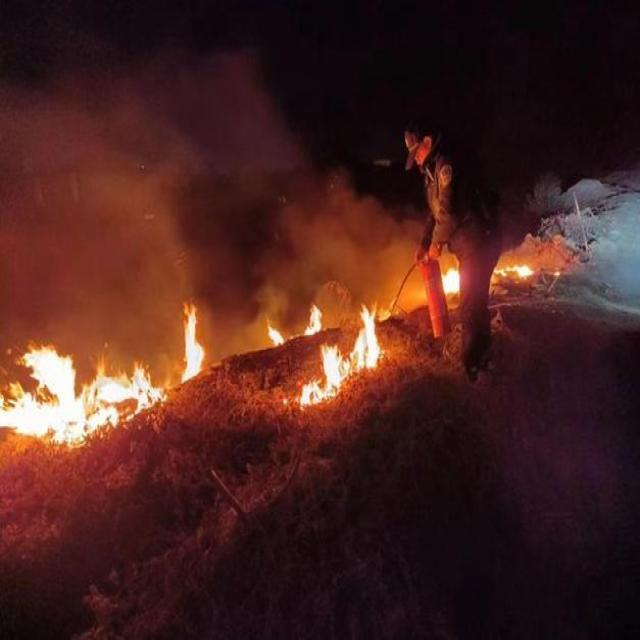Fire: (0, 302, 205, 450), (266, 304, 381, 409)
